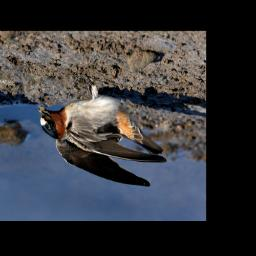Swallow: (38, 73, 167, 188)
